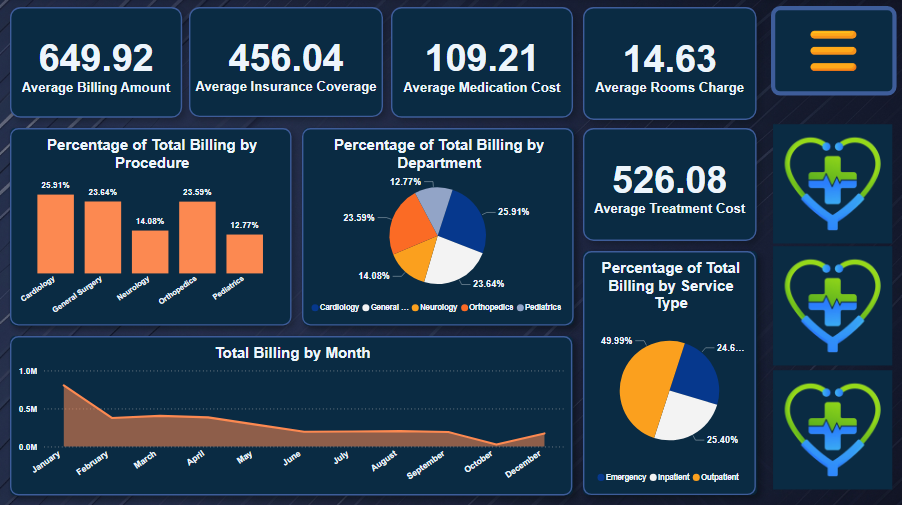

The page's visual inventory and layout, read from the dashboard file:
{"tool":"powerbi","page":{"name":"Page 2","canvas":[1280,720],"ordinal":1},"visuals":[{"type":"image","box":[1093.9,11.4,178,127.3],"z":2000},{"type":"actionButton","box":[1093.9,506.1,171.4,62],"z":3000},{"type":"actionButton","box":[1093,591,172.6,61.5],"z":4000},{"type":"slicer","fields":{"Values":["patients.Gender"]},"box":[1093.1,155.2,177.4,87],"z":5000},{"type":"slicer","fields":{"Values":["patients.Race"]},"box":[1093.1,239.9,177.4,87.9],"z":6000},{"type":"slicer","fields":{"Values":["visits.Date of Visit.Variation.Date Hierarchy.Quarter"]},"box":[1093.1,327.8,177.4,87],"z":7000},{"type":"card","fields":{"Values":["KPIs.Average Treatment Cost"]},"box":[828.2,184.6,245.6,159.6],"z":11000},{"type":"card","fields":{"Values":["KPIs.Average Billing Amount"]},"box":[15.6,12.8,243.8,157.3],"z":12000},{"type":"card","fields":{"Values":["KPIs.Average Insurance Coverage"]},"box":[269.3,12.8,275,155.9],"z":13000},{"type":"card","fields":{"Values":["KPIs.Average Medication Cost"]},"box":[555.6,12.8,258,157.3],"z":14000},{"type":"card","fields":{"Values":["KPIs.Average Rooms Charge"]},"box":[828.2,12.5,245.6,159.6],"z":15000},{"type":"shape","box":[16.1,184.6,383.6,279.7],"z":16000},{"type":"shape","box":[430.3,184.6,383.6,279.7],"z":17000},{"type":"shape","box":[828.2,358.5,247.4,346],"z":18000},{"type":"shape","box":[16.2,478.4,798.4,226.3],"z":19000},{"type":"pieChart","title":"Percentage of Total Billing by Department","fields":{"Y":["Sum(visits.Total Billing)"],"Category":["departments.Department"]},"box":[429.9,184.2,384.6,279.6],"z":20000},{"type":"pieChart","title":"Percentage of Total Billing by Service Type","fields":{"Y":["Sum(visits.Total Billing)"],"Category":["visits.Service Type"]},"box":[828.4,358.7,245.2,345.8],"z":21000},{"type":"clusteredColumnChart","title":"Percentage of Total Billing by Procedure","fields":{"Category":["departments.Department"],"Y":["Divide(Sum(visits.Total Billing), ScopedEval(Sum(visits.Total Billing), []))"]},"box":[16.2,184.2,399.2,279.6],"z":22000},{"type":"lineChart","title":" Total Billing by Month","fields":{"Category":["visits.Date of Visit.Variation.Date Hierarchy.Month"],"Y":["Sum(visits.Total Billing)"]},"box":[16.2,478.4,796.8,226.3],"z":23000}]}

Visuals, with their boxes in screenshot pixels (x1, y1, x2, y2), scaled from the page's 1280x720 canvas onto the 902x505 screenshot:
image: select_region(771, 8, 896, 97)
actionButton: select_region(771, 355, 892, 398)
actionButton: select_region(770, 415, 892, 458)
slicer - patients.Gender: select_region(770, 109, 895, 170)
slicer - patients.Race: select_region(770, 168, 895, 230)
slicer - visits.Date of Visit.Variation.Date Hierarchy.Quarter: select_region(770, 230, 895, 291)
card - KPIs.Average Treatment Cost: select_region(584, 129, 757, 241)
card - KPIs.Average Billing Amount: select_region(11, 9, 183, 119)
card - KPIs.Average Insurance Coverage: select_region(190, 9, 384, 118)
card - KPIs.Average Medication Cost: select_region(392, 9, 573, 119)
card - KPIs.Average Rooms Charge: select_region(584, 9, 757, 121)
shape: select_region(11, 129, 282, 326)
shape: select_region(303, 129, 574, 326)
shape: select_region(584, 251, 758, 494)
shape: select_region(11, 336, 574, 494)
"Percentage of Total Billing by Department" pieChart: select_region(303, 129, 574, 325)
"Percentage of Total Billing by Service Type" pieChart: select_region(584, 252, 757, 494)
"Percentage of Total Billing by Procedure" clusteredColumnChart: select_region(11, 129, 293, 325)
" Total Billing by Month" lineChart: select_region(11, 336, 573, 494)
